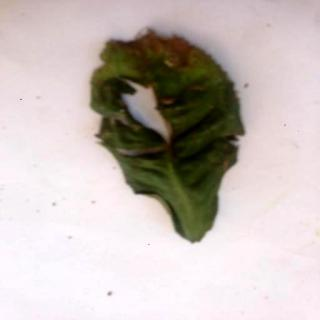Brown Blight: (92, 30, 246, 244)
